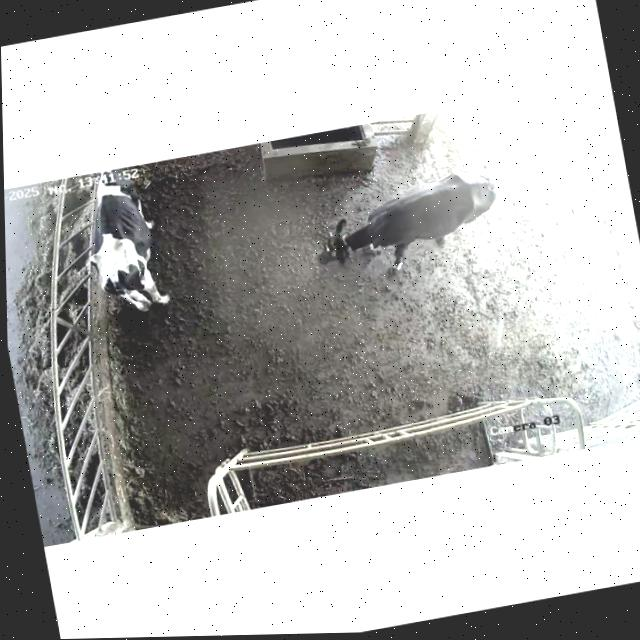stand: (290, 157, 517, 291), (75, 160, 181, 322)
